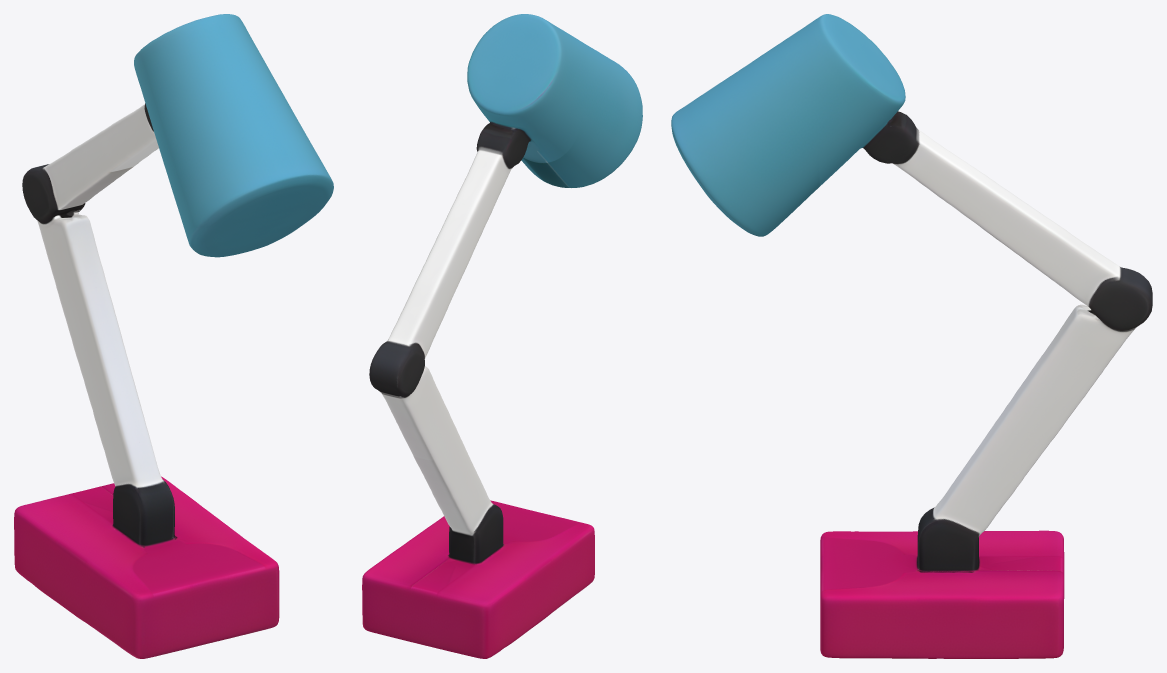
File: lamp_shaded.glb
3 views of the same model, side by side, from view 1: azimuth 30°, elevation 25°; view 2: azimuth 150°, elevation 25°; view 3: azimuth 270°, elevation 25° (orthographic). The views are drawn at different scales.
Visible parts, largest first — view 1: model; view 2: model; view 3: model.
Part boxes in pixels (x1,y1,x2,y2): model: [14, 14, 333, 658]; model: [362, 14, 642, 658]; model: [671, 14, 1152, 658].
Bounding box in the file's own units: 0.4655 × 1.91 × 1.37.
1 material, 1 textured.
